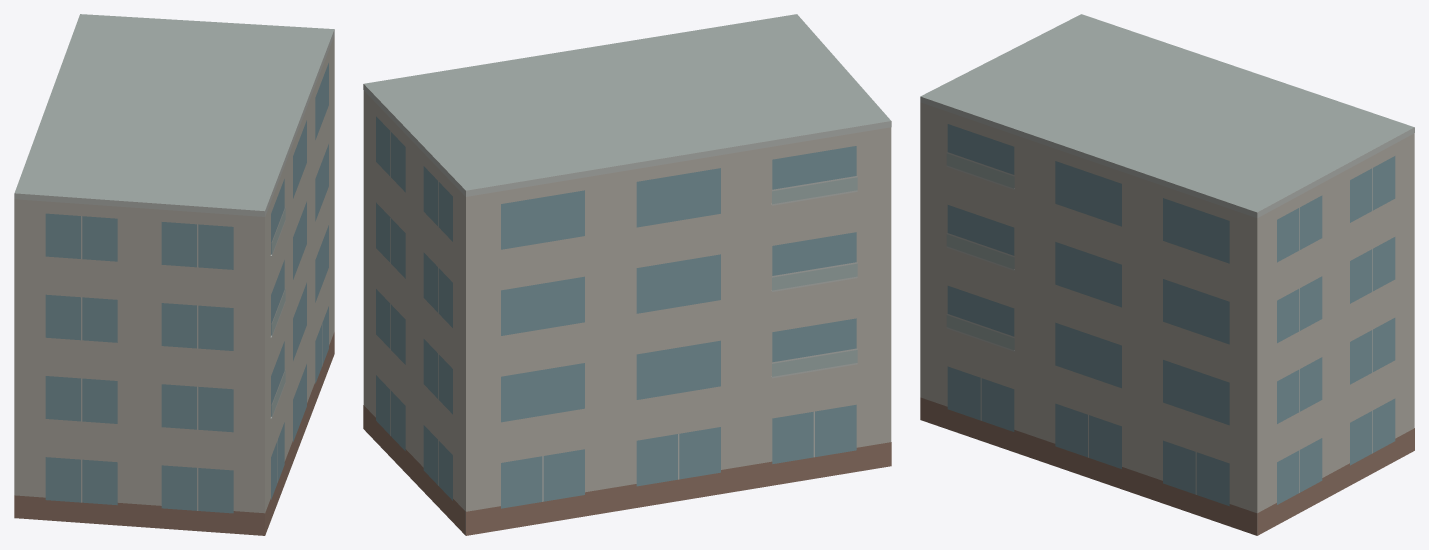
File: survey-upis-32500148.glb
The picture shows the model from 3 angles, left to right: view 1: azimuth 30°, elevation 25°; view 2: azimuth 150°, elevation 25°; view 3: azimuth 270°, elevation 25°; orthographic projection. The views are drawn at different scales.
Visible parts, largest first — view 1: survey-upis-32500148.tmp; view 2: survey-upis-32500148.tmp; view 3: survey-upis-32500148.tmp.
Boxes of the visible parts, x1,y1,x2,y2 form: survey-upis-32500148.tmp: [14, 14, 334, 535]; survey-upis-32500148.tmp: [363, 14, 891, 535]; survey-upis-32500148.tmp: [920, 14, 1414, 535].
Bounding box in the file's own units: 17.78 × 13.5 × 18.72.
